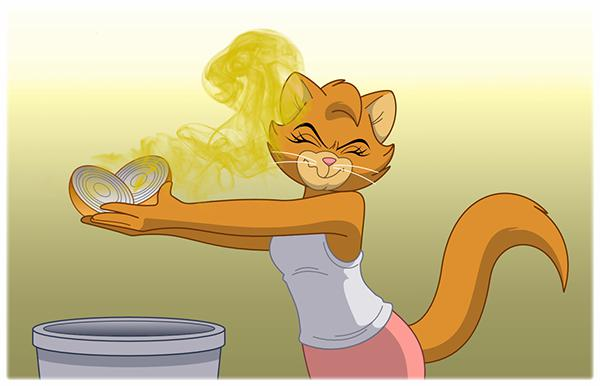cat: (69, 21, 571, 385)
